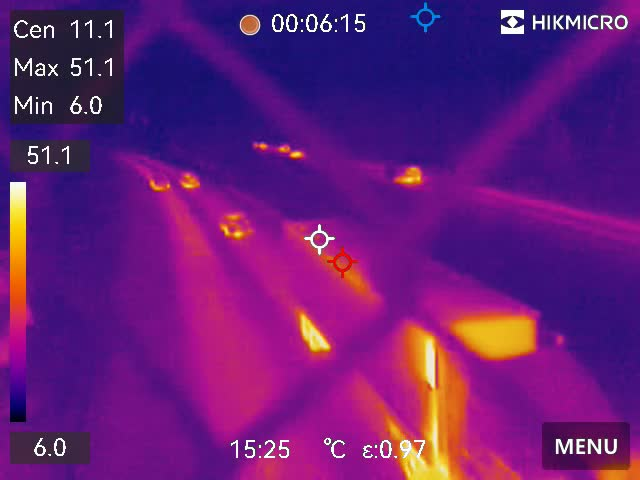heavyTruck: (280, 210, 640, 480)
